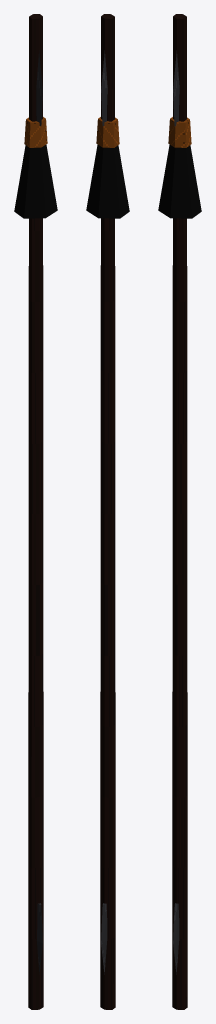
File: lanza_doble_punta.glb
3 renders of one model, left to right at view 1: azimuth 30°, elevation 25°; view 2: azimuth 150°, elevation 25°; view 3: azimuth 330°, elevation 25°, orthographic.
Visible parts, largest first — view 1: asta, borla, virola, punta, punta_inferior; view 2: asta, borla, virola, punta, punta_inferior; view 3: asta, borla, virola, punta, punta_inferior.
Part boxes in pixels (box(x1,y1,x2,y2)): asta: box(28, 14, 43, 1009); borla: box(14, 144, 57, 218); virola: box(24, 117, 47, 147); punta: box(36, 50, 42, 126); punta_inferior: box(36, 903, 42, 974); asta: box(100, 14, 115, 1009); borla: box(86, 144, 129, 218); virola: box(96, 117, 119, 147); punta: box(101, 50, 107, 126); punta_inferior: box(101, 903, 107, 974); asta: box(172, 14, 187, 1009); borla: box(158, 144, 201, 218); virola: box(168, 117, 191, 147); punta: box(173, 50, 179, 126); punta_inferior: box(173, 903, 179, 974).
Bounding box in the file's own units: 0.1 × 2.8 × 0.1.
Materials: 1 (1 with a texture image).
